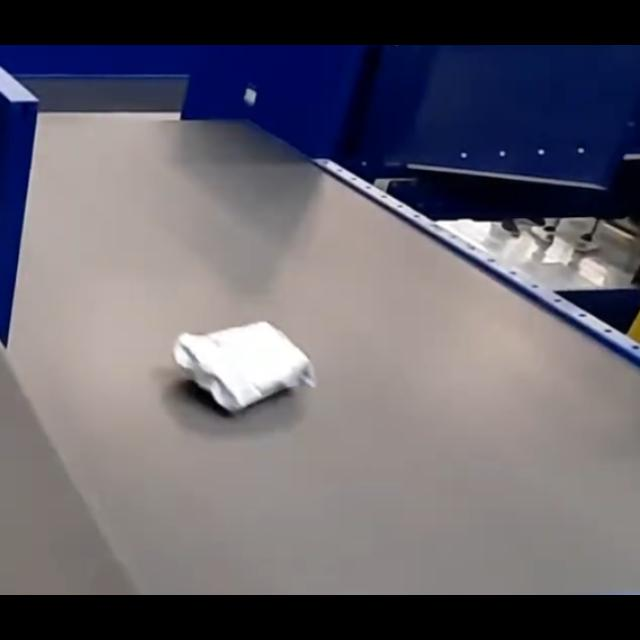mailer: (172, 320, 314, 420)
